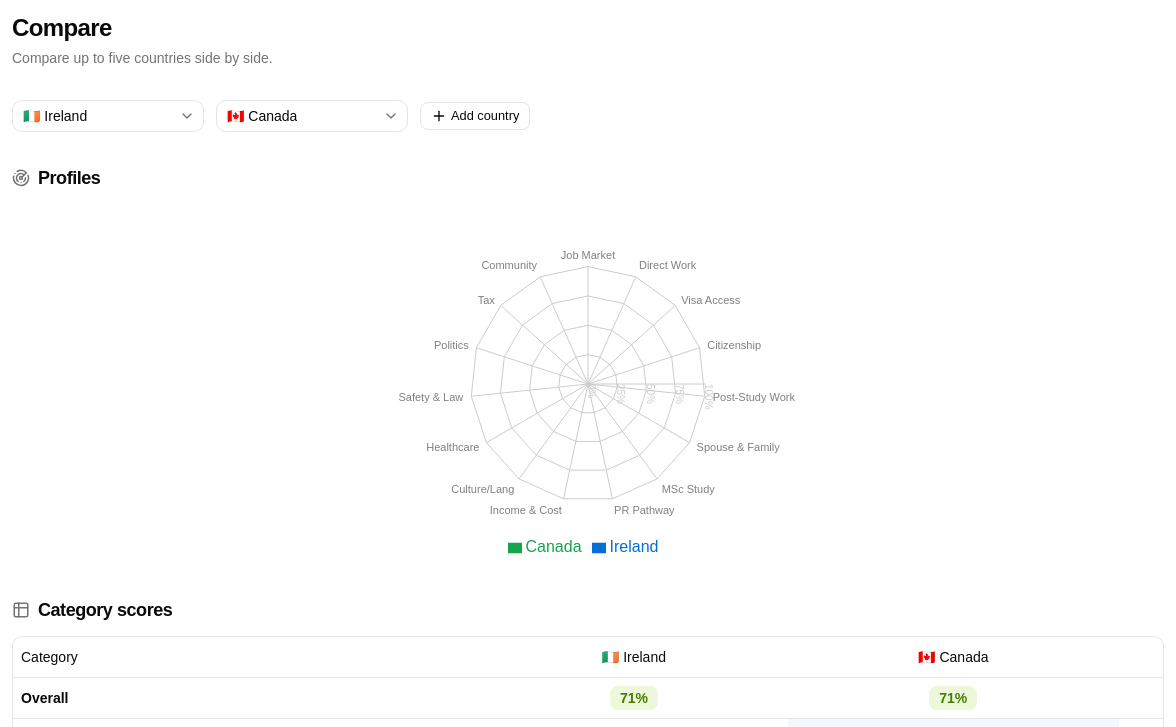
Test: Compare page country slots › removes a slot down to a floor of 2
This screenshot has width=1176, height=727.
Step 1. Click the button "Add country" → (475, 116), box x1=420 y1=102 x2=530 y2=130
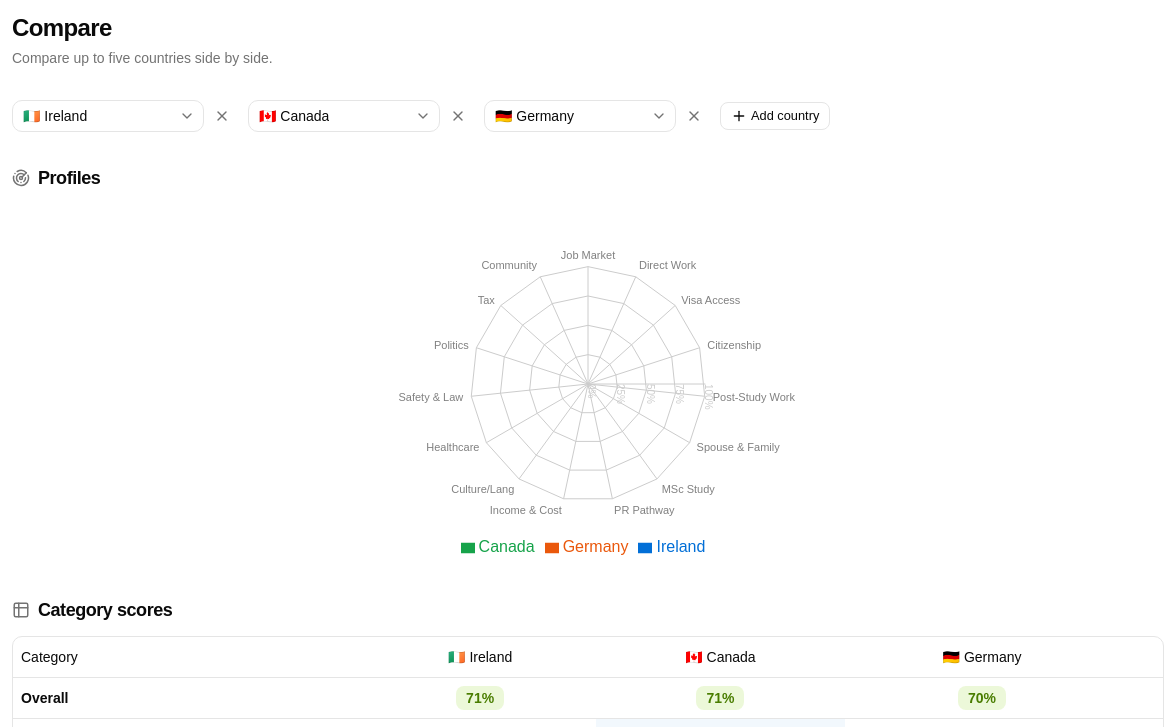
Check: the number of dropdowns is 3, box x1=12 y1=100 x2=204 y2=132; x1=248 y1=100 x2=440 y2=132; x1=484 y1=100 x2=676 y2=132
Step 2. Click the 1st button named "remove country" → (222, 116), box x1=208 y1=102 x2=236 y2=130
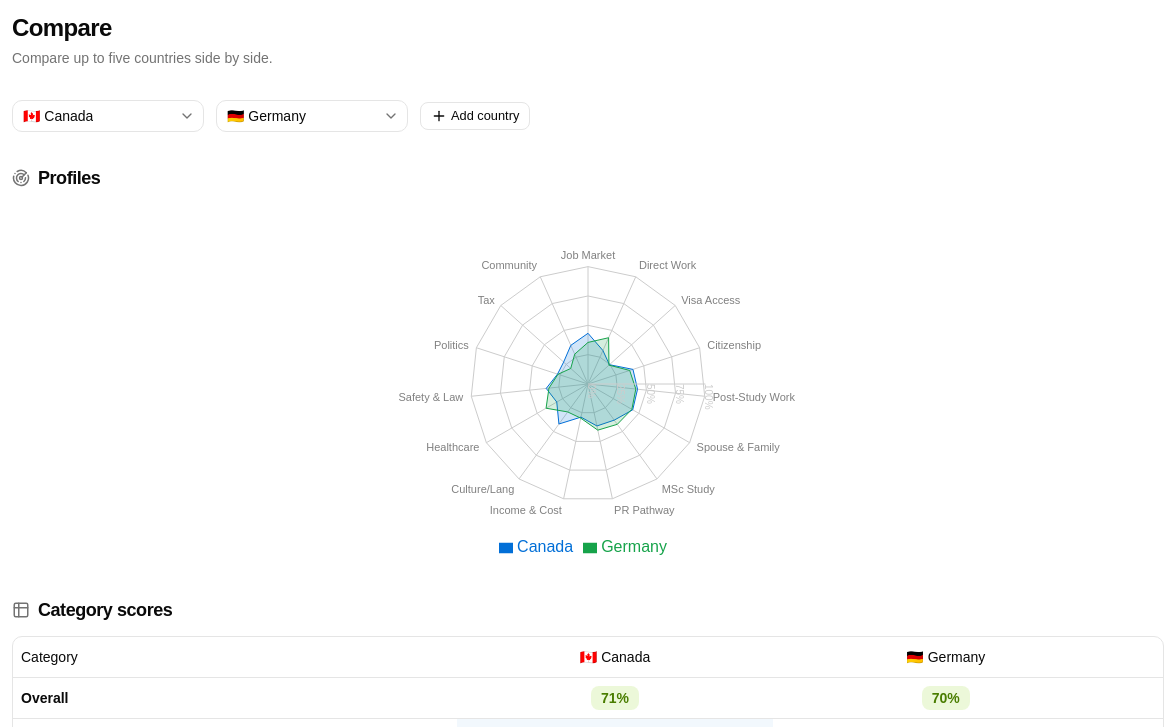
Check: the number of dropdowns is 2, box x1=12 y1=100 x2=204 y2=132; x1=216 y1=100 x2=408 y2=132
